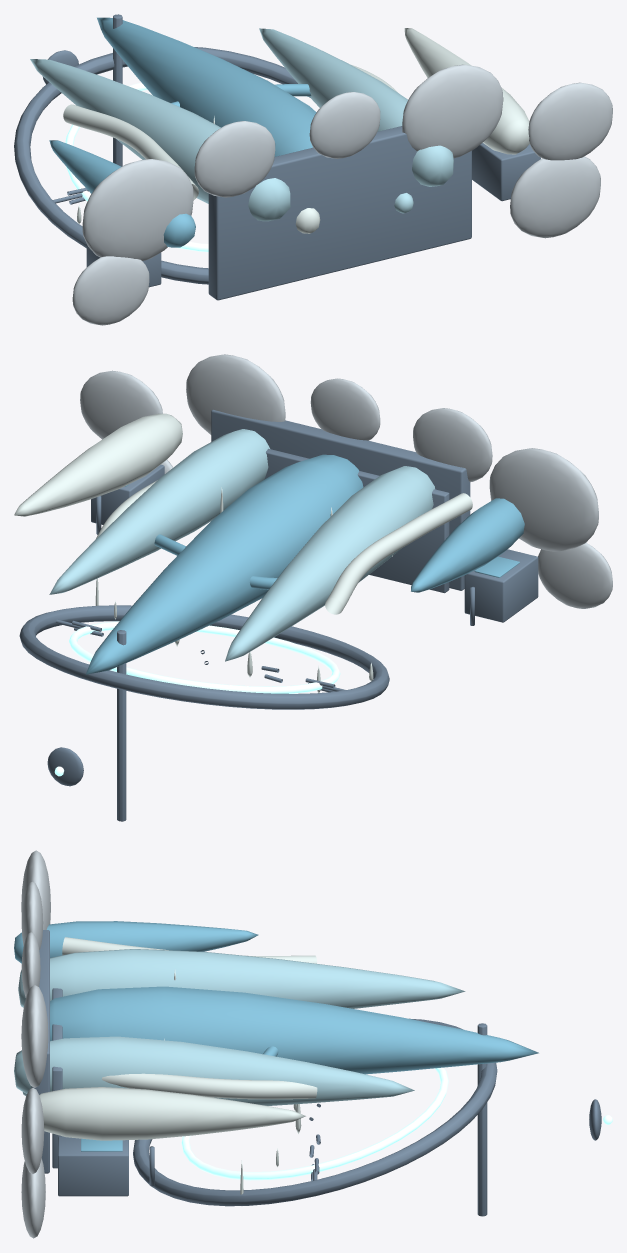
File: polar.glb
3 views of the same model, one above another, from view 1: azimuth 30°, elevation 25°; view 2: azimuth 150°, elevation 25°; view 3: azimuth 270°, elevation 25° (orthographic).
Visible parts, largest first — view 1: foundation, ice_spire_1, ice_spire_0, snow_drift_0, snow_drift_3, ice_spire_2, snow_drift_1, obs_ring, snow_drift_6, snow_drift_2, snow_drift_5, snow_drift_4 (+8 smaller); view 2: ice_spire_1, ice_spire_2, ice_spire_0, obs_ring, snow_drift_0, ice_spire_3, foundation, snow_drift_3, ice_spire_4, snow_drift_2, snow_drift_5, snow_drift_6 (+9 smaller); view 3: ice_spire_1, ice_spire_0, ice_spire_2, ice_spire_3, obs_ring, ice_spire_4, frozen_fall_1, equipment_R, obs_inner_ring, snow_drift_3, snow_drift_6, snow_drift_1 (+7 smaller).
Part boxes in pixels (bbox=[...]): foundation: bbox=[208, 126, 471, 300]; ice_spire_1: bbox=[97, 17, 316, 156]; ice_spire_0: bbox=[30, 59, 290, 221]; snow_drift_0: bbox=[82, 159, 193, 260]; snow_drift_3: bbox=[402, 64, 503, 158]; ice_spire_2: bbox=[259, 28, 453, 186]; snow_drift_1: bbox=[510, 156, 600, 238]; obs_ring: bbox=[14, 47, 310, 284]; snow_drift_6: bbox=[528, 82, 612, 160]; snow_drift_2: bbox=[194, 121, 275, 197]; snow_drift_5: bbox=[72, 256, 149, 325]; snow_drift_4: bbox=[309, 92, 380, 158]; ice_spire_1: bbox=[86, 454, 363, 674]; ice_spire_2: bbox=[49, 429, 269, 594]; ice_spire_0: bbox=[225, 466, 434, 661]; obs_ring: bbox=[19, 605, 389, 709]; snow_drift_0: bbox=[489, 448, 598, 551]; ice_spire_3: bbox=[14, 413, 182, 516]; foundation: bbox=[211, 409, 470, 590]; snow_drift_3: bbox=[186, 354, 285, 434]; ice_spire_4: bbox=[411, 498, 524, 592]; snow_drift_2: bbox=[413, 408, 492, 482]; snow_drift_5: bbox=[538, 542, 612, 608]; snow_drift_6: bbox=[80, 370, 162, 439]; ice_spire_1: bbox=[50, 986, 538, 1074]; ice_spire_0: bbox=[18, 949, 465, 1008]; ice_spire_2: bbox=[14, 1036, 414, 1105]; ice_spire_3: bbox=[39, 1087, 305, 1140]; obs_ring: bbox=[133, 1018, 497, 1206]; ice_spire_4: bbox=[14, 921, 258, 963]; frozen_fall_1: bbox=[102, 1073, 317, 1099]; equipment_R: bbox=[58, 1136, 128, 1196]; obs_inner_ring: bbox=[181, 1067, 448, 1180]; snow_drift_3: bbox=[21, 985, 48, 1087]; snow_drift_6: bbox=[21, 1087, 44, 1173]; snow_drift_1: bbox=[21, 1158, 45, 1238].
Bounding box in the file's own units: 7.41 × 3.67 × 7.16.
